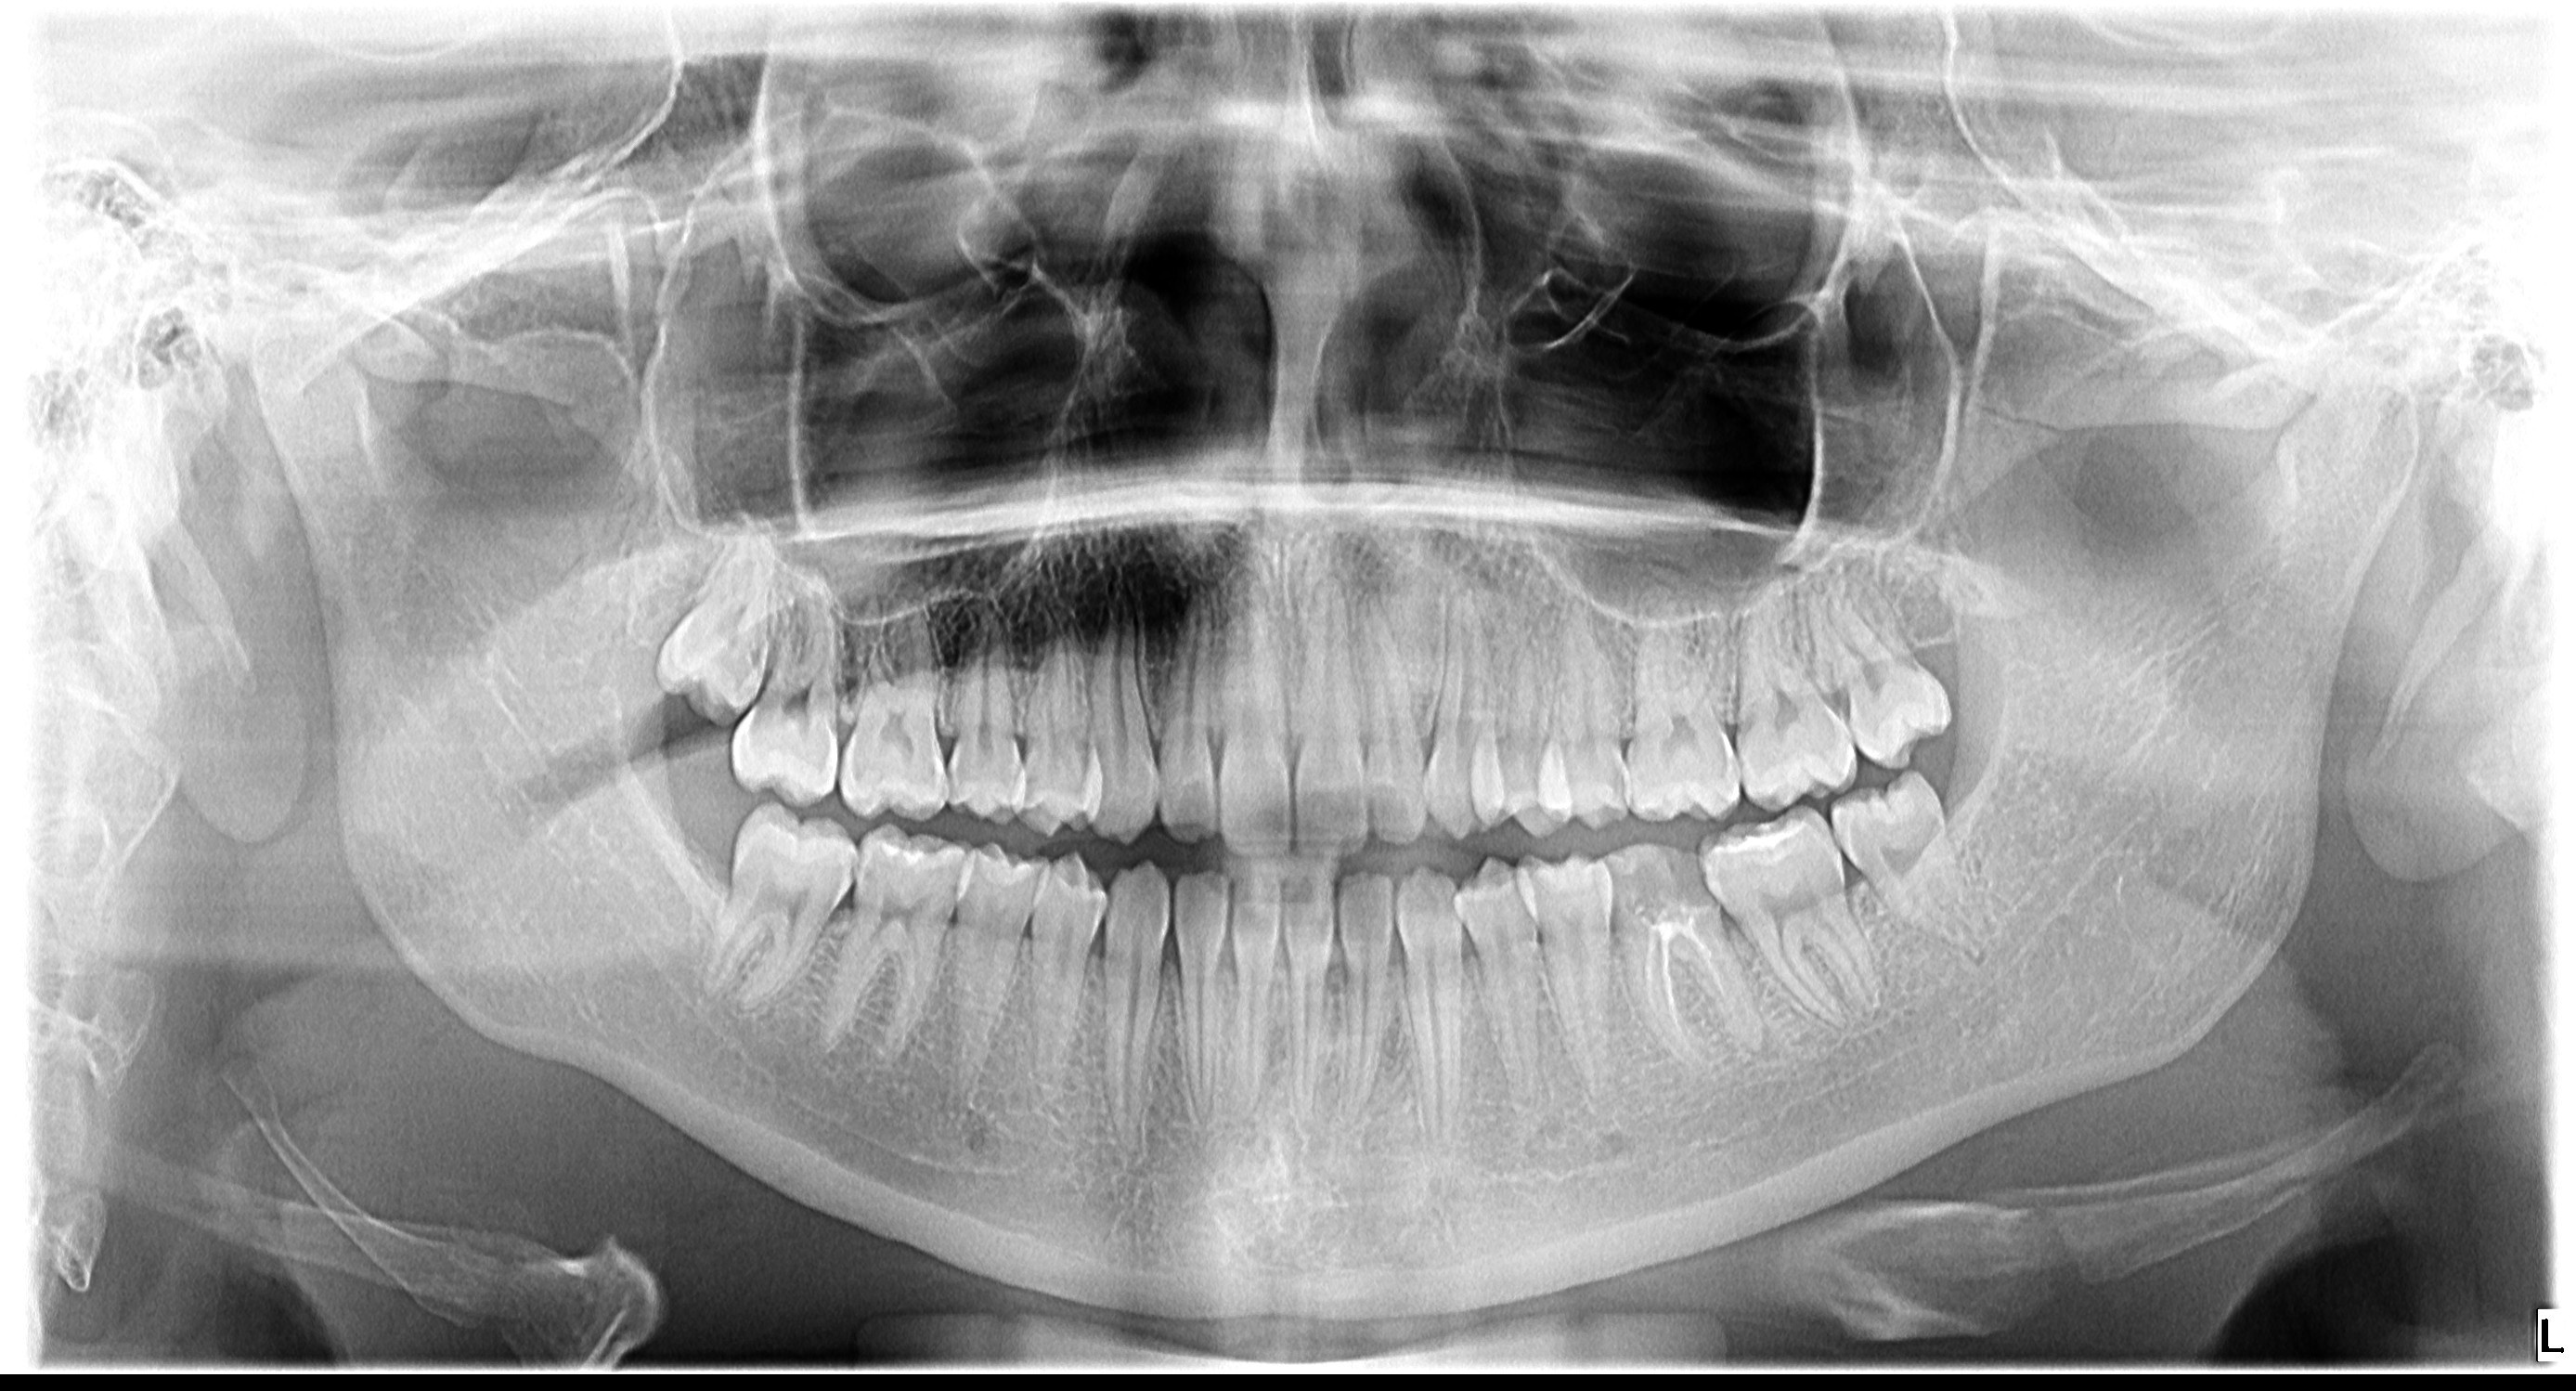API: (1737, 1019, 1784, 1069)
END: (1631, 922, 1737, 1067)
OBT: (1611, 851, 1732, 915), (842, 857, 878, 886)
